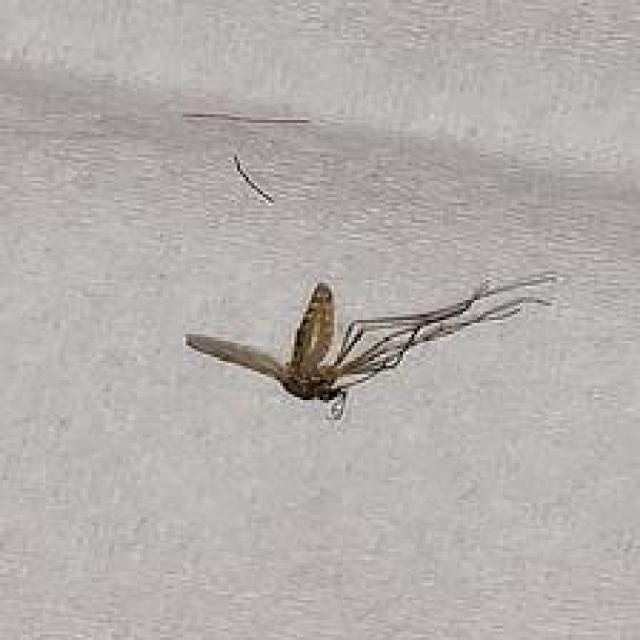Culex: (183, 270, 557, 421)
